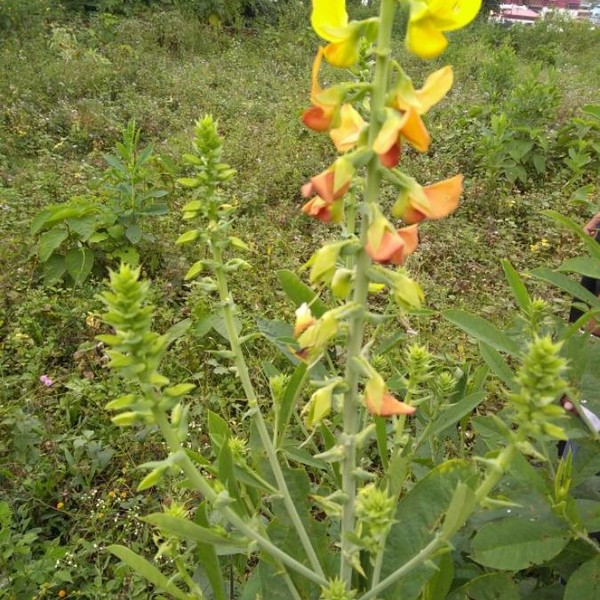obstacle: (277, 54, 539, 576), (96, 106, 323, 588)
